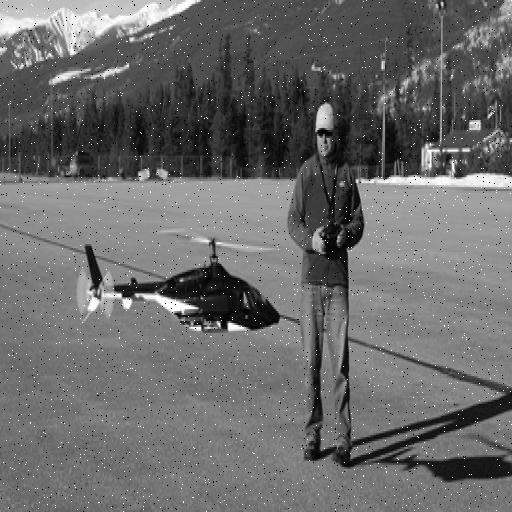helicopter: (75, 234, 278, 358)
